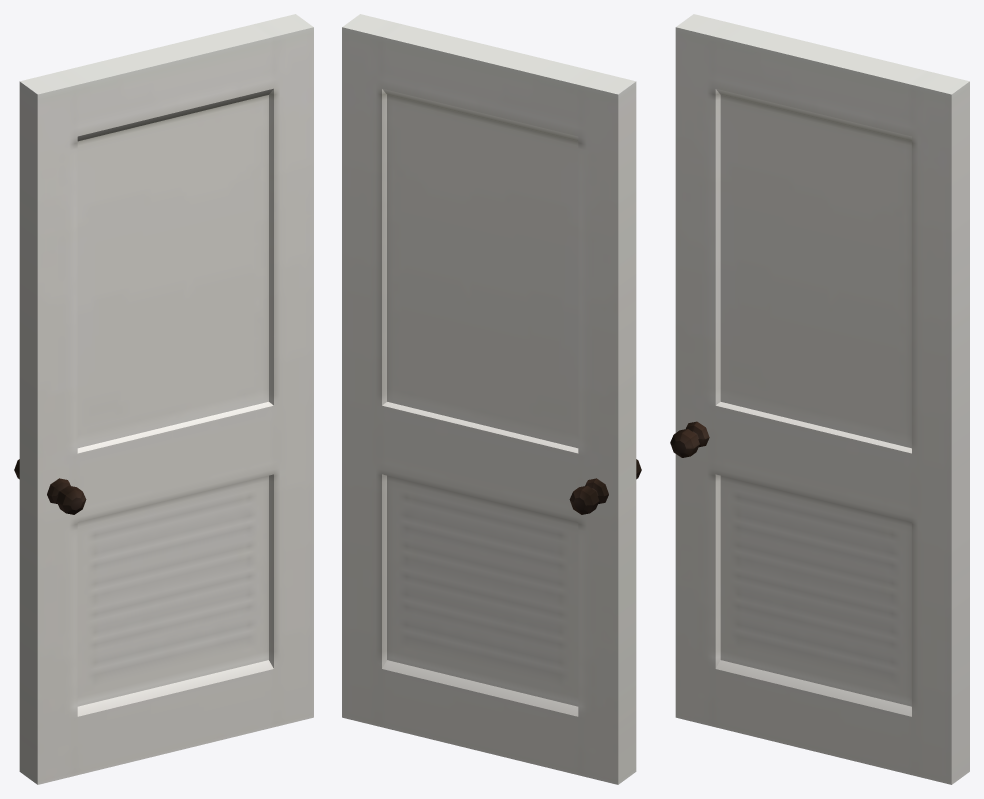
The model's file is bathroom_door.glb.
3 renders of one model, left to right at view 1: azimuth 30°, elevation 25°; view 2: azimuth 150°, elevation 25°; view 3: azimuth 330°, elevation 25°, orthographic.
Visible parts, largest first — view 1: Bathroom Door_002.001, Circle.002; view 2: Bathroom Door_002.001, Circle.002; view 3: Bathroom Door_002.001, Circle.002.
Boxes of the visible parts, bbox=[...] form: Bathroom Door_002.001: bbox=[19, 14, 313, 784]; Circle.002: bbox=[14, 459, 86, 514]; Bathroom Door_002.001: bbox=[342, 14, 636, 784]; Circle.002: bbox=[569, 459, 641, 514]; Bathroom Door_002.001: bbox=[675, 14, 969, 784]; Circle.002: bbox=[670, 421, 709, 457].
Size of the model in its own units: 0.7558 by 1.81 by 0.2489.
1 material, 1 textured.
